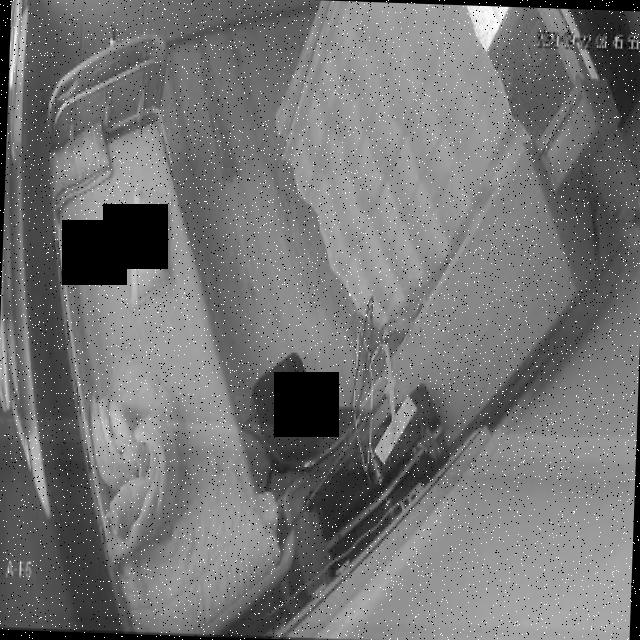bed: (31, 29, 296, 638)
